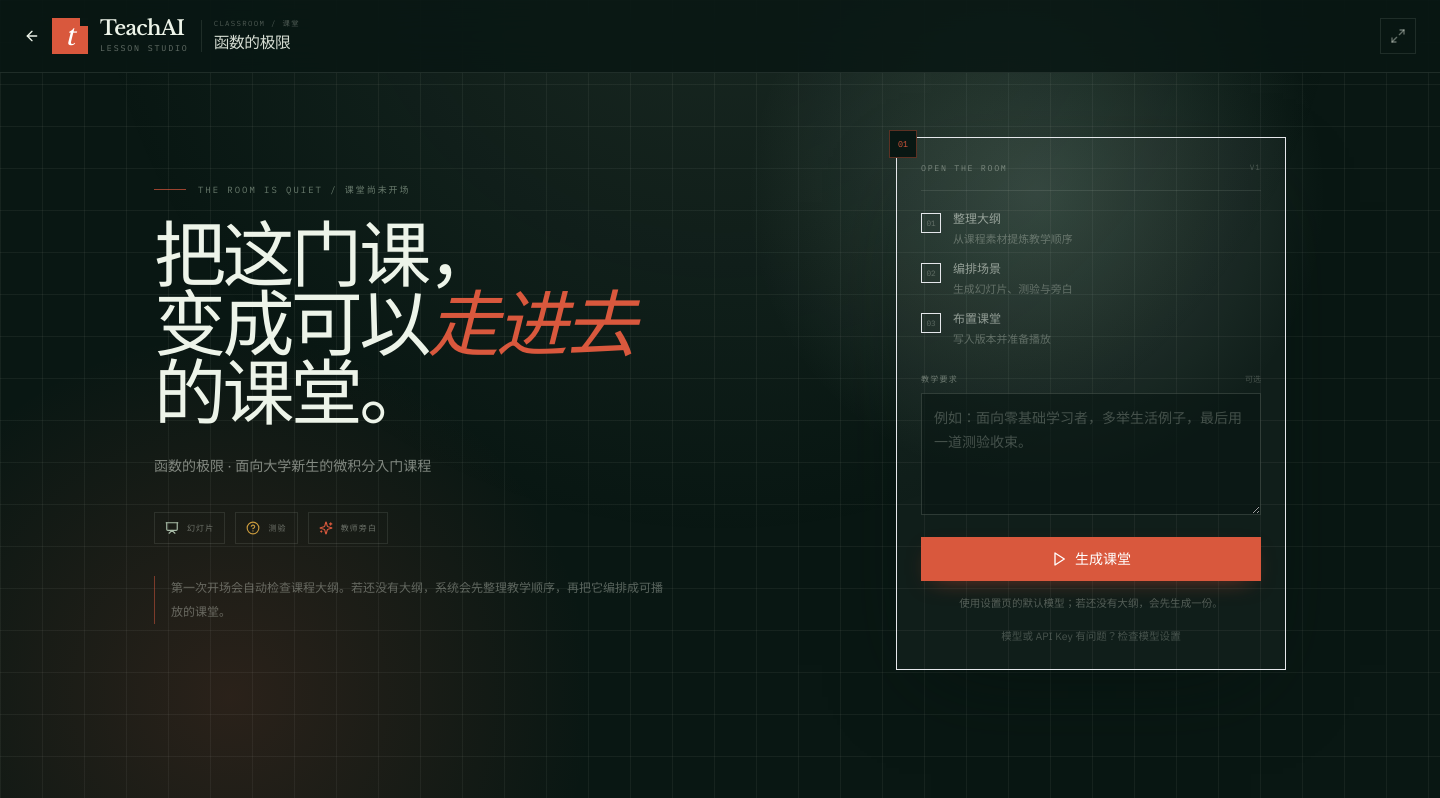
Test case: ClassroomExperience › creates a missing outline before generating the classroom
Click the button "生成课堂".
click(1091, 560)  # box [921,538,1261,582]
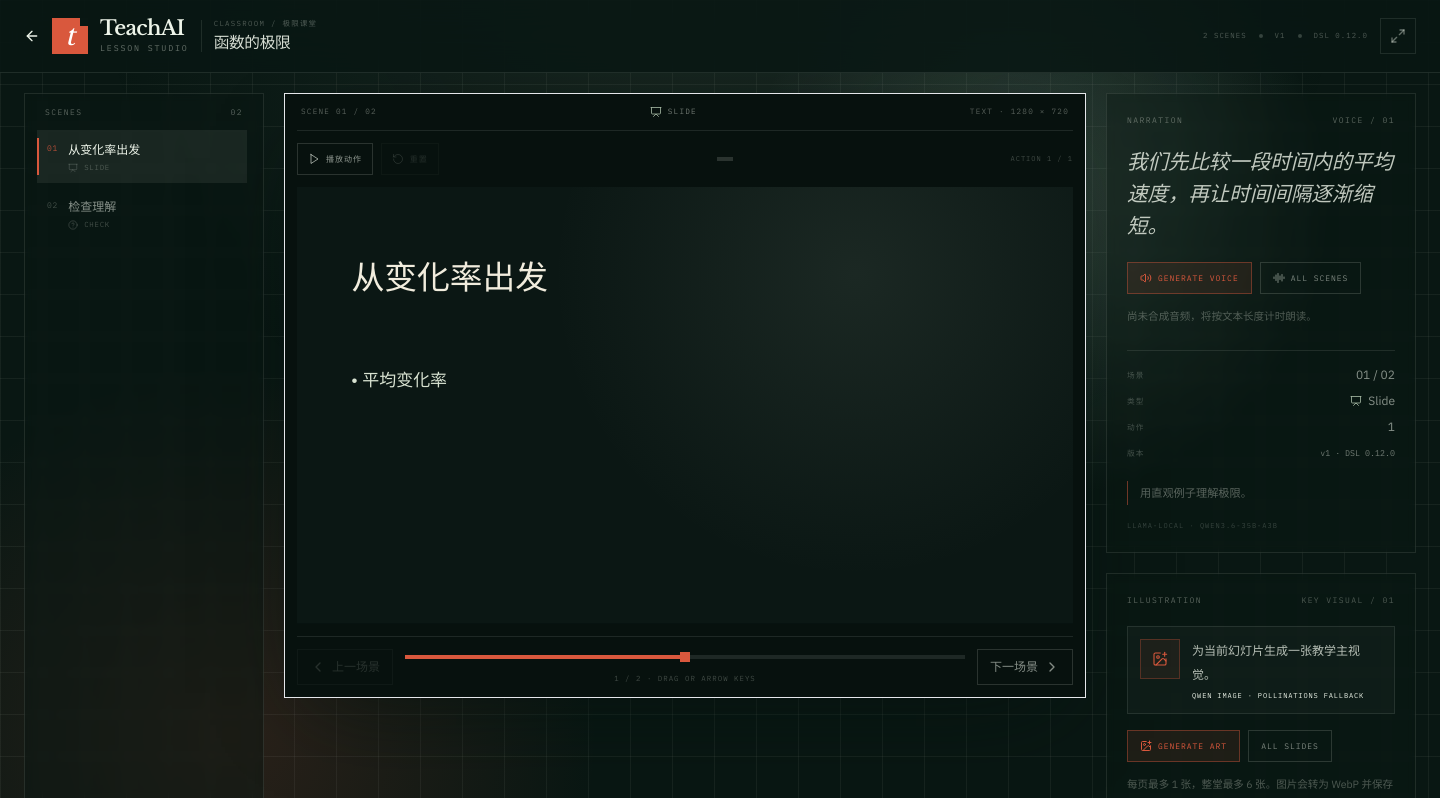
Now the text "• 平均变化率" is shown, box [352,371,447,390]
